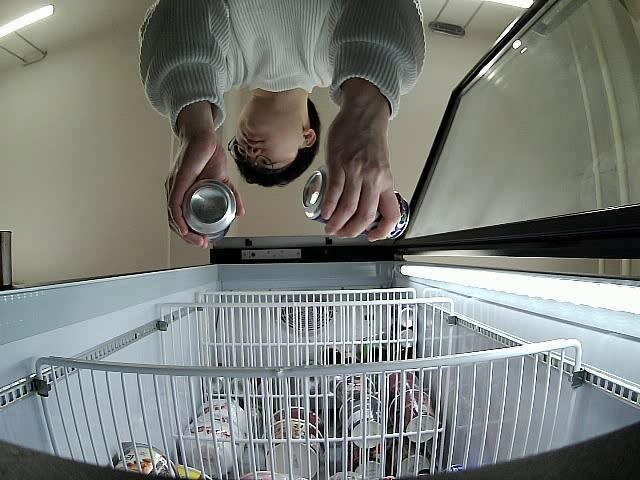14_welchsGrape: (303, 166, 411, 242), (182, 180, 236, 244)
